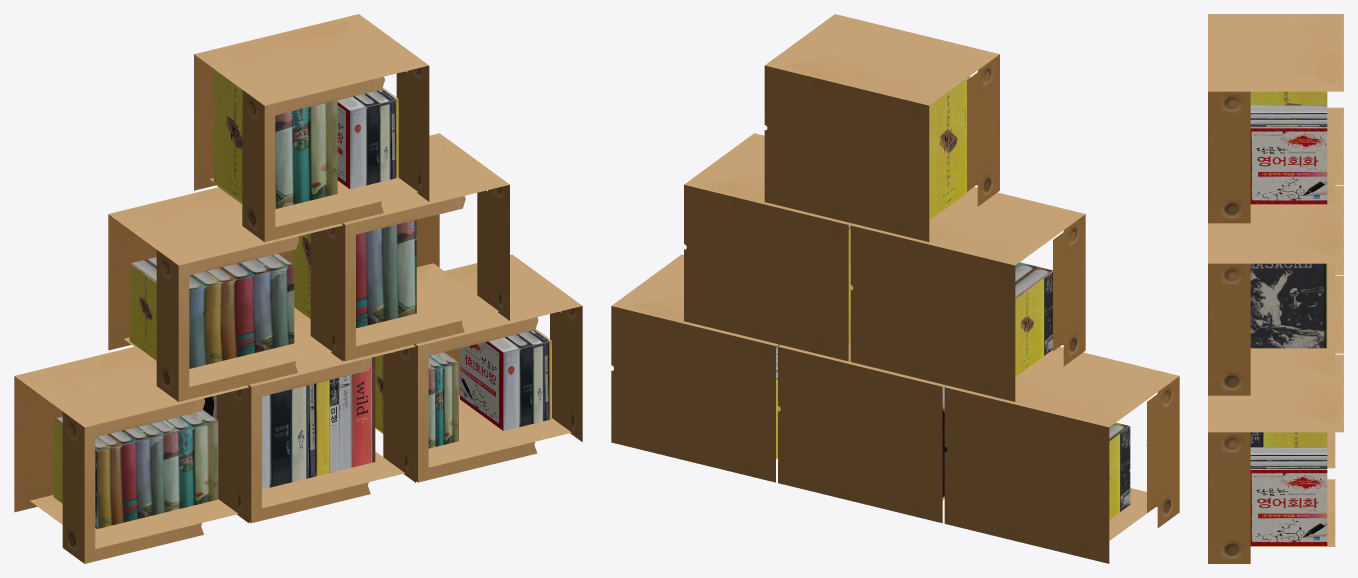
The model's file is bookShelf1.fbx.
3 renders of one model, left to right at view 1: azimuth 30°, elevation 25°; view 2: azimuth 150°, elevation 25°; view 3: azimuth 270°, elevation 25°, orthographic. The views are drawn at different scales.
Visible parts, largest first — view 1: bookShelf1; view 2: bookShelf1; view 3: bookShelf1.
Part boxes in pixels (x1,y1,x2,y2): bookShelf1: (14, 14, 582, 563); bookShelf1: (611, 14, 1179, 563); bookShelf1: (1208, 14, 1343, 563).
Size of the model in its own units: 15.25 by 12.12 by 3.73.
